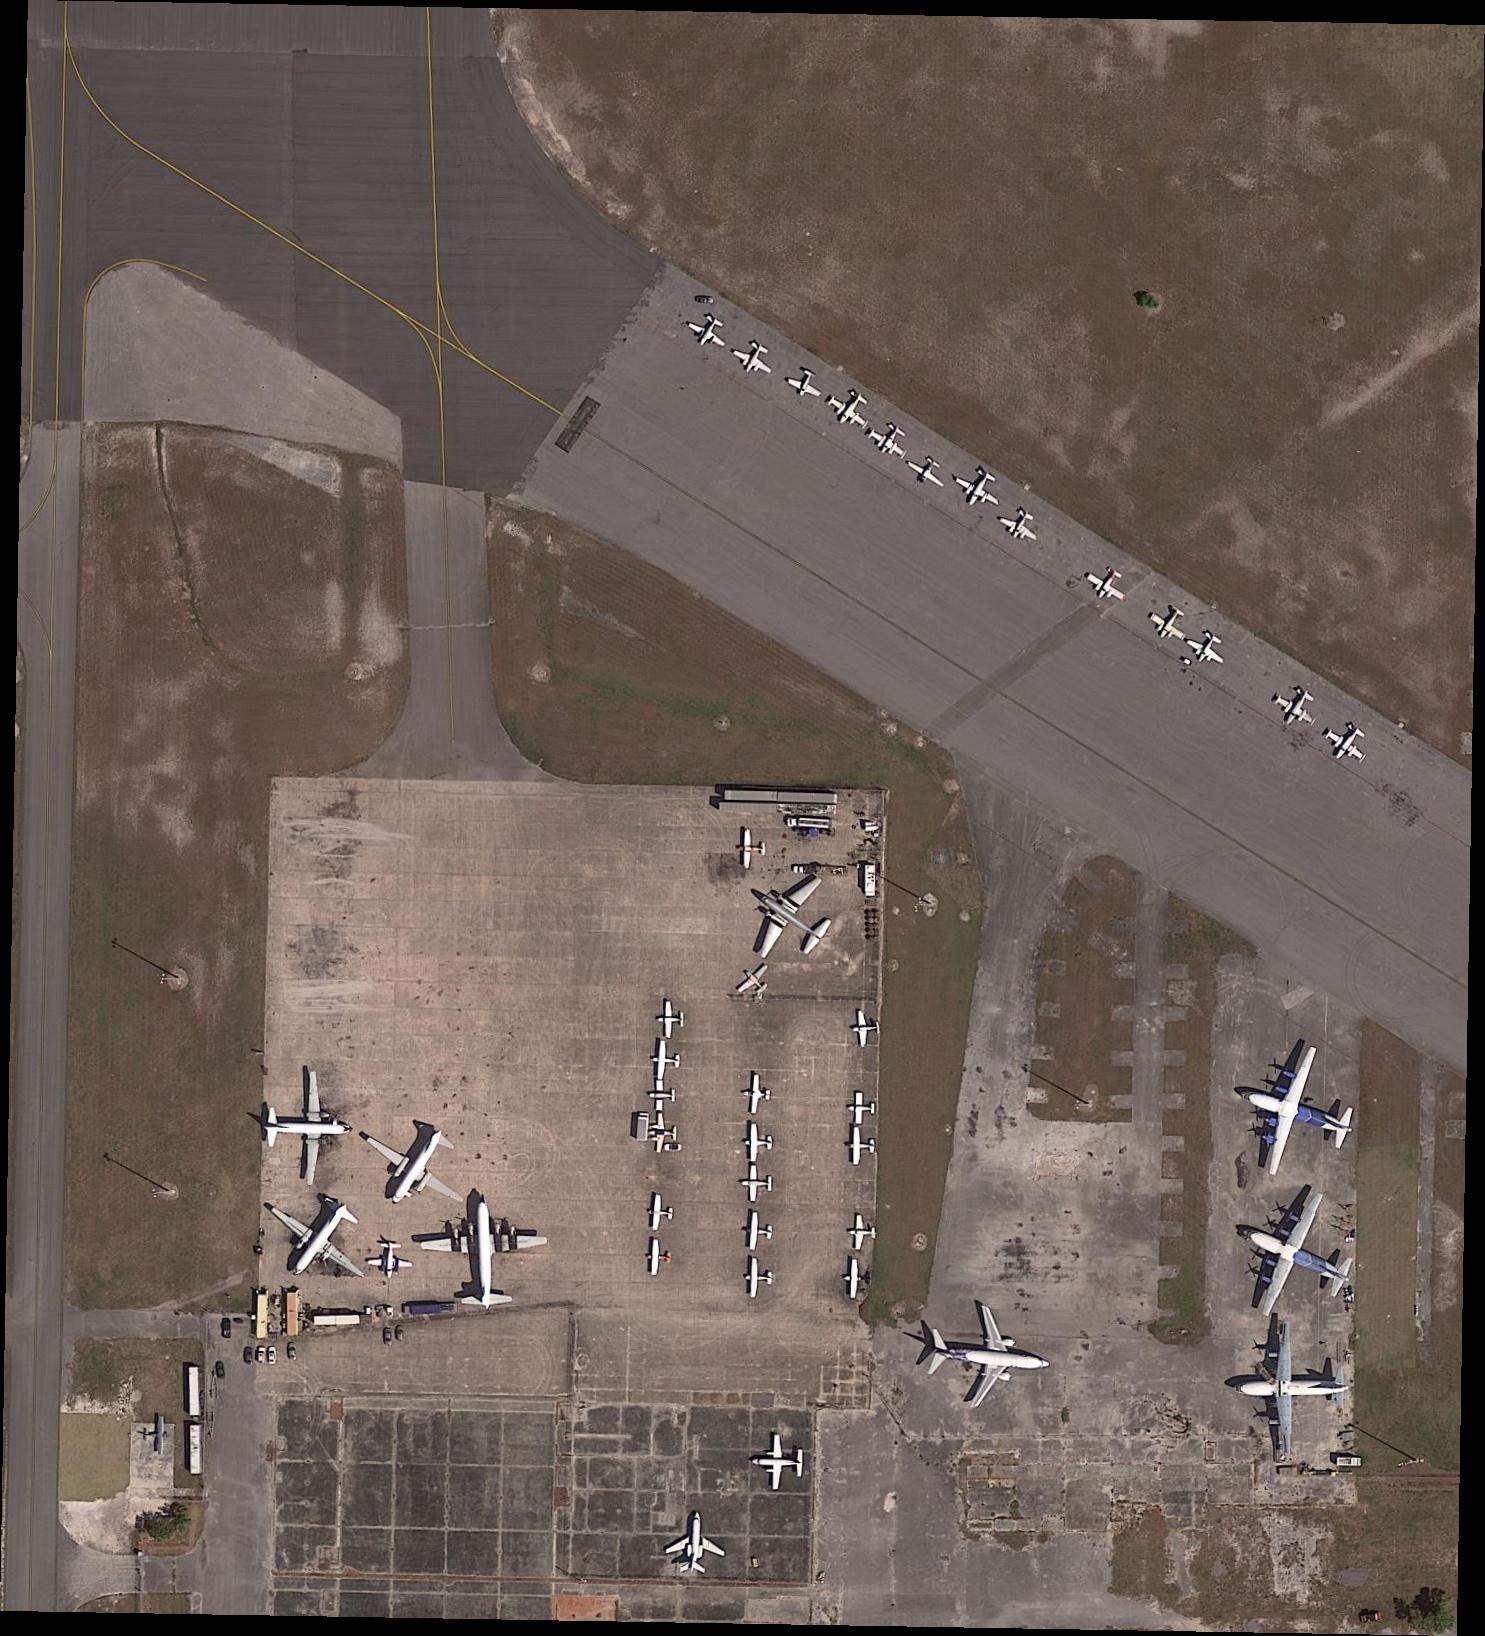plane: (1214, 1167, 1377, 1344), (1220, 1019, 1372, 1194), (247, 1171, 388, 1307), (346, 1102, 487, 1236), (923, 1294, 1055, 1417), (725, 852, 849, 980), (415, 1198, 547, 1311), (1236, 1332, 1348, 1455), (261, 1067, 356, 1187), (664, 1511, 727, 1576), (946, 460, 1010, 519), (822, 380, 881, 439), (1320, 714, 1377, 772), (1268, 680, 1325, 735), (1080, 559, 1137, 611), (751, 1435, 804, 1492), (993, 500, 1047, 552), (864, 415, 916, 466), (1143, 599, 1196, 650), (1181, 623, 1234, 673), (730, 335, 782, 383), (683, 309, 735, 355), (902, 450, 953, 496), (733, 958, 780, 1005), (782, 363, 828, 408), (365, 1240, 415, 1278), (740, 1073, 772, 1117), (650, 1040, 683, 1082), (744, 1257, 775, 1300), (742, 1211, 774, 1253), (844, 1258, 874, 1301), (741, 1164, 774, 1203), (648, 1113, 678, 1154), (847, 1127, 876, 1169), (737, 829, 767, 869), (849, 1009, 879, 1049), (656, 1000, 685, 1039), (141, 1415, 170, 1455), (644, 1238, 673, 1278), (849, 1214, 878, 1253), (648, 1194, 676, 1234), (745, 1123, 772, 1161), (847, 1093, 876, 1126), (650, 1082, 676, 1112)
